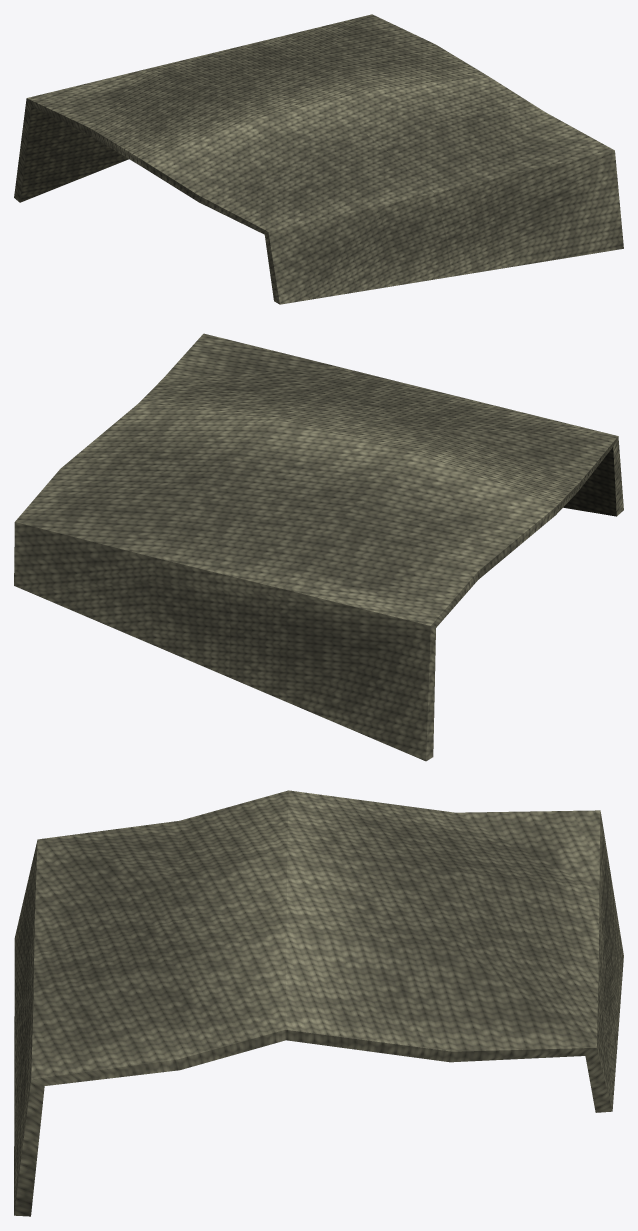
The model's file is Blanket.Big.fbx.
3 renders of one model, top to bottom at view 1: azimuth 30°, elevation 25°; view 2: azimuth 150°, elevation 25°; view 3: azimuth 270°, elevation 25°, orthographic. The views are drawn at different scales.
Parts seen in each view (by area): view 1: Blsnket.Big; view 2: Blsnket.Big; view 3: Blsnket.Big.
Boxes of the visible parts, bbox=[...] form: Blsnket.Big: bbox=[14, 14, 623, 304]; Blsnket.Big: bbox=[14, 333, 623, 761]; Blsnket.Big: bbox=[14, 790, 623, 1216].
Bounding box in the file's own units: 168 × 55.37 × 158.
